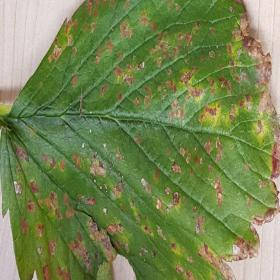Angular Leafspot: (0, 0, 279, 279)
